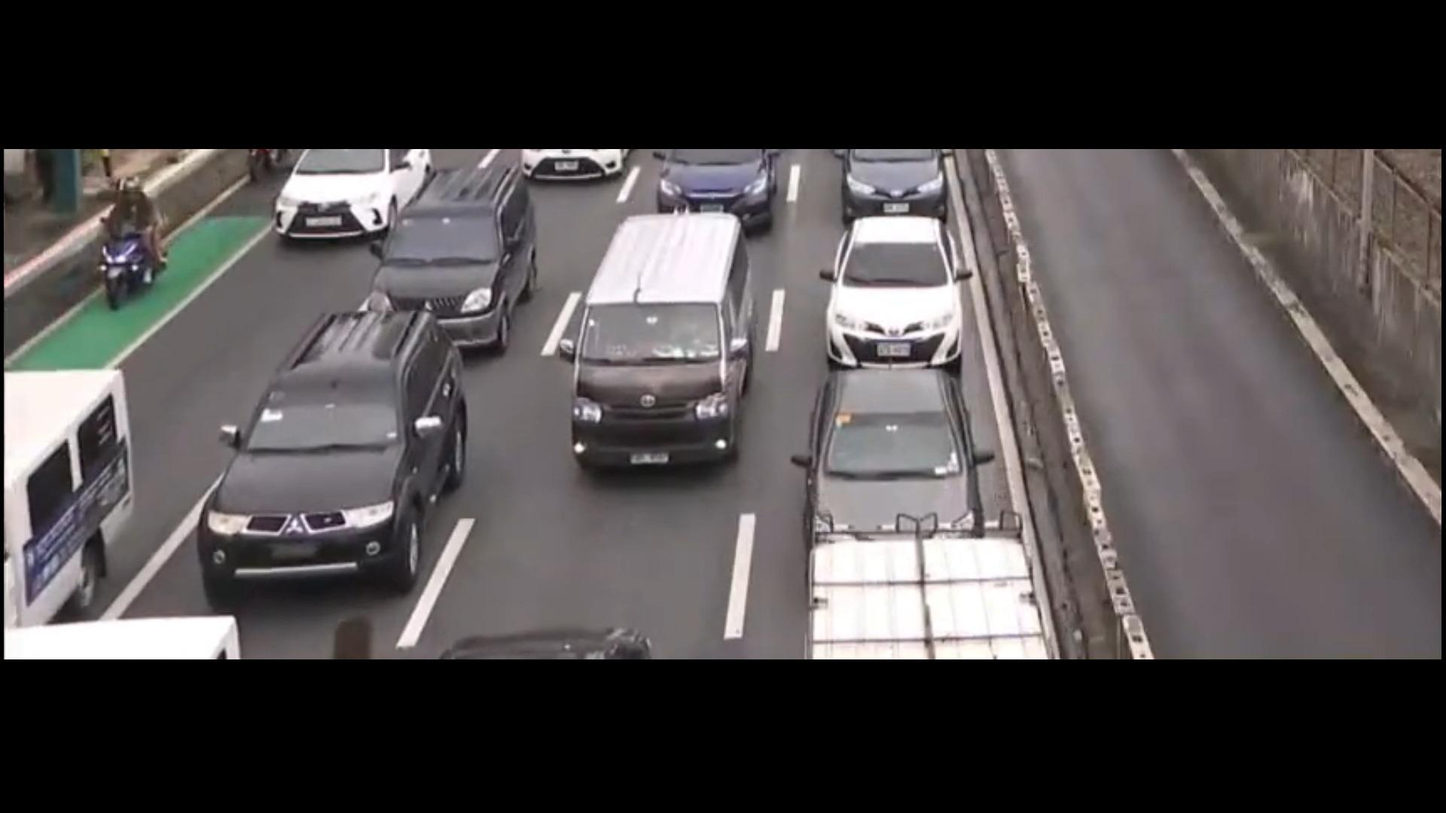Motorcycle: (86, 172, 174, 313)
Multicab: (0, 360, 153, 629)
SUV: (176, 300, 488, 593), (355, 166, 550, 358)
Sedan: (806, 360, 1006, 527), (812, 204, 987, 384), (260, 147, 429, 239)
Truck: (791, 537, 1078, 655)
Van: (556, 202, 767, 483)
